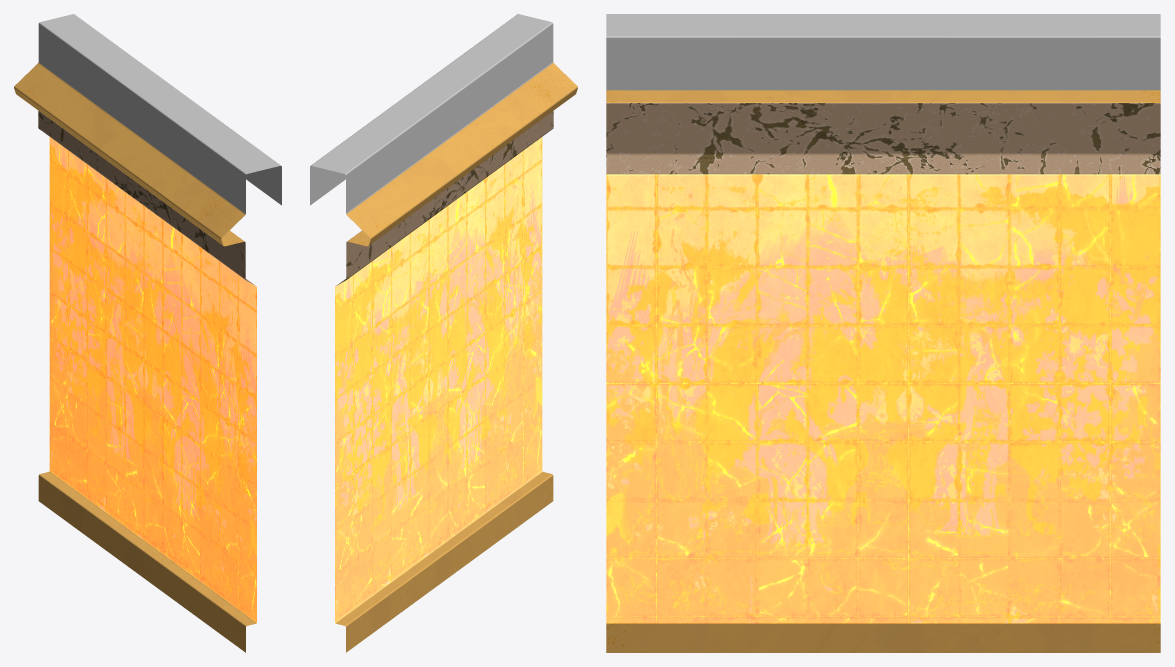
The model's file is SM_Floor_Beam_01_Middle.fbx.
The picture shows the model from 3 angles, left to right: view 1: azimuth 30°, elevation 25°; view 2: azimuth 150°, elevation 25°; view 3: azimuth 270°, elevation 25°; orthographic projection. The views are drawn at different scales.
Parts seen in each view (by area): view 1: SM_Floor_Beam_01_Middle_LOD0; view 2: SM_Floor_Beam_01_Middle_LOD0; view 3: SM_Floor_Beam_01_Middle_LOD0.
Part boxes in pixels (box(x1,y1,x2,y2)): SM_Floor_Beam_01_Middle_LOD0: box(14, 14, 281, 652); SM_Floor_Beam_01_Middle_LOD0: box(310, 14, 577, 652); SM_Floor_Beam_01_Middle_LOD0: box(606, 14, 1160, 652).
Bounding box in the file's own units: 50.62 × 300 × 382.
